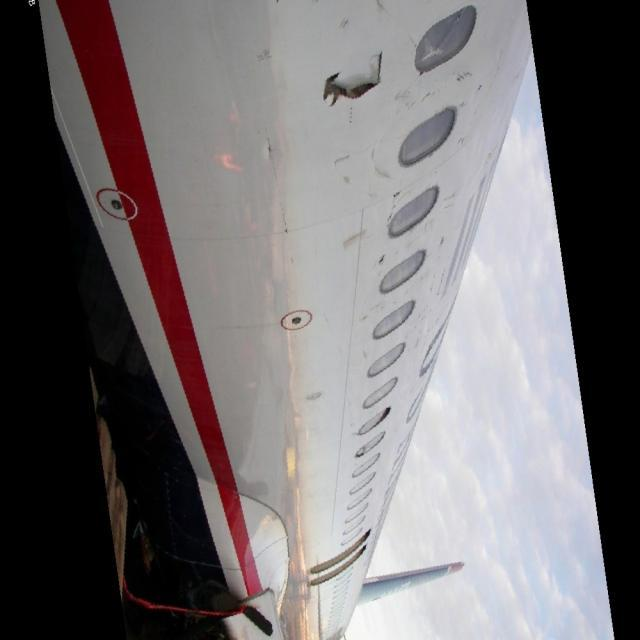crack: (314, 46, 390, 119)
